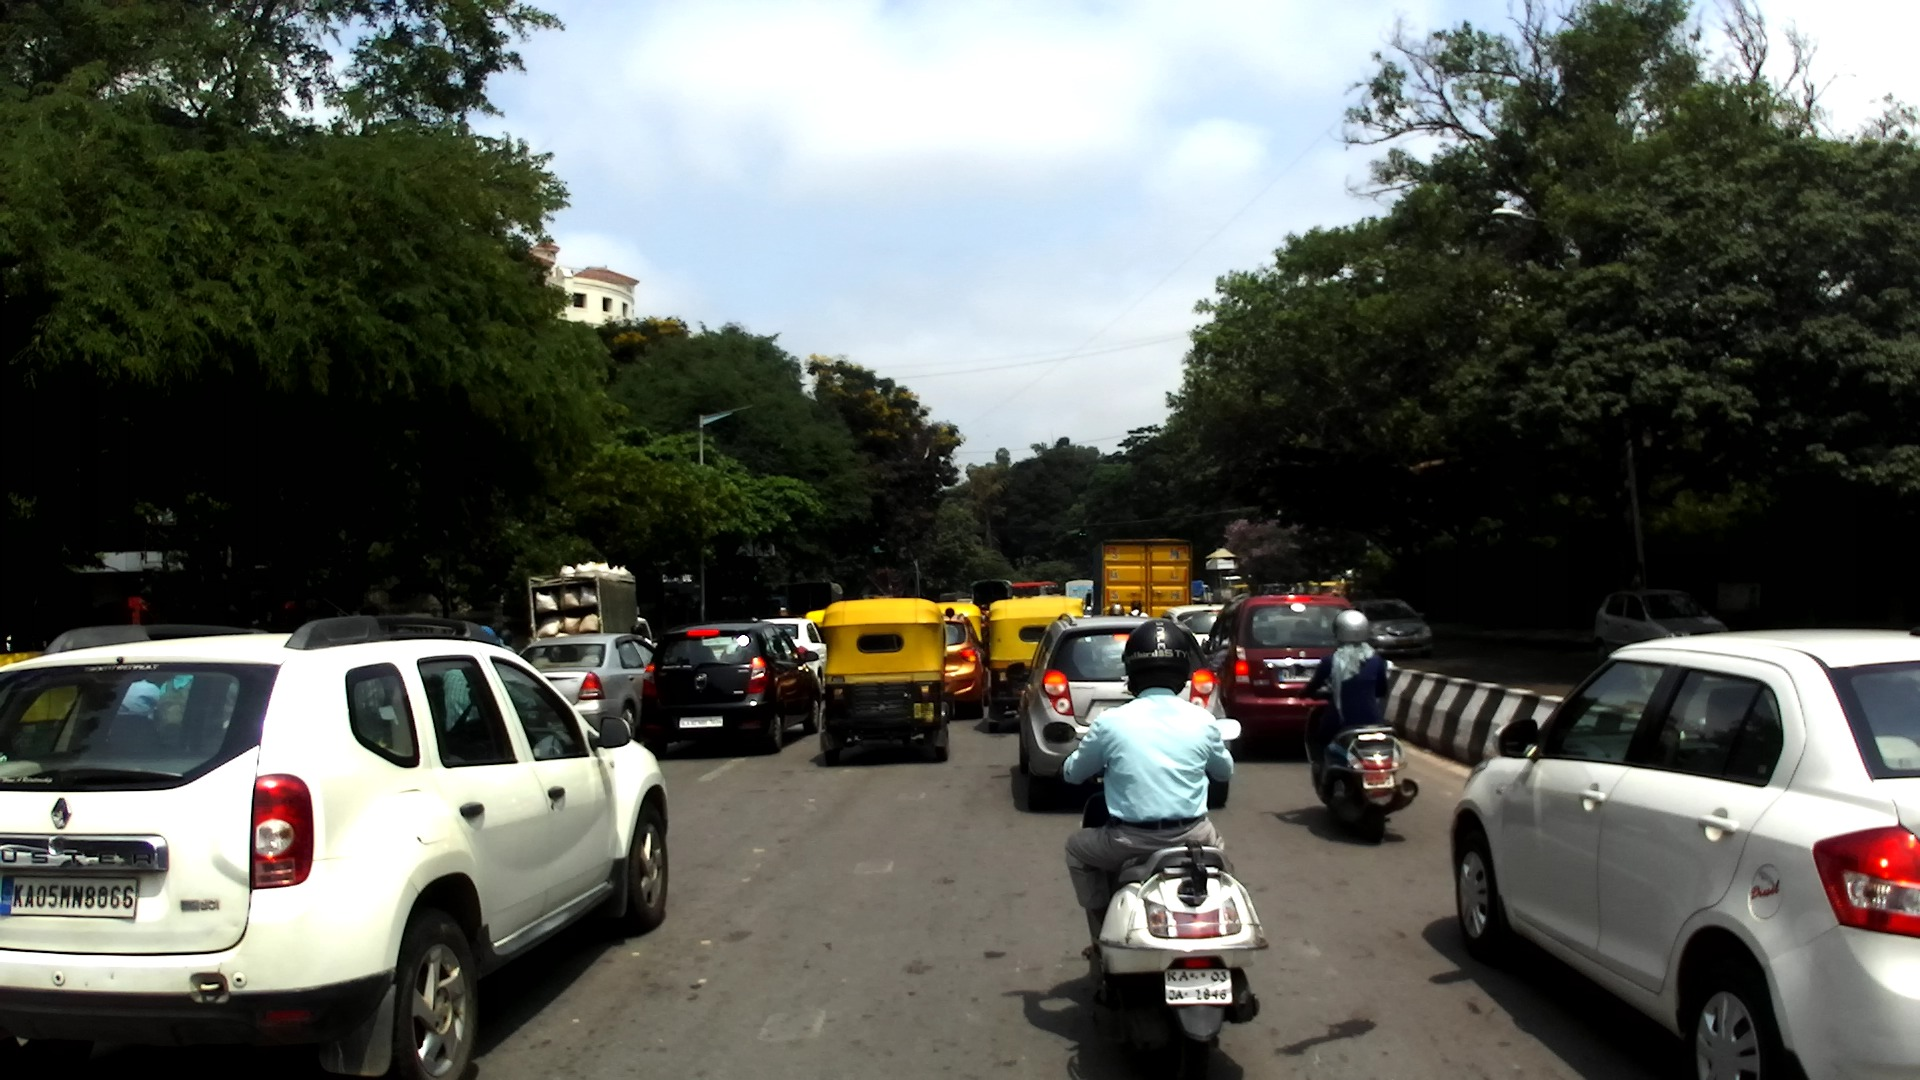autorickshaw: (818, 599, 954, 768), (986, 598, 1086, 736), (935, 602, 983, 670), (1, 651, 55, 684), (803, 609, 832, 645), (1291, 581, 1321, 600), (1342, 578, 1364, 604), (1318, 581, 1345, 597)
car: (1, 614, 670, 1080), (1448, 622, 1920, 1080), (1005, 613, 1230, 815), (1201, 592, 1358, 756), (641, 624, 822, 755), (513, 633, 664, 747), (1593, 585, 1732, 671), (752, 617, 833, 702), (1161, 597, 1244, 668), (940, 611, 992, 718), (1347, 600, 1434, 660)
motorcycle: (1040, 719, 1271, 1080), (1284, 663, 1420, 845)
rider: (1062, 617, 1237, 983), (1300, 610, 1391, 782), (268, 599, 304, 633), (1125, 601, 1150, 623), (495, 630, 516, 654), (980, 601, 990, 640), (1107, 602, 1127, 621), (630, 623, 645, 640)
truck: (527, 560, 658, 667), (1086, 540, 1193, 631), (782, 580, 844, 627), (971, 580, 1013, 610), (746, 597, 790, 623), (1189, 581, 1214, 607)
vehicle fallback: (89, 597, 169, 621), (1062, 577, 1102, 617), (1009, 581, 1059, 609), (1213, 574, 1257, 600), (1225, 585, 1258, 605), (938, 593, 974, 611), (1258, 584, 1293, 601), (1351, 590, 1378, 599)
